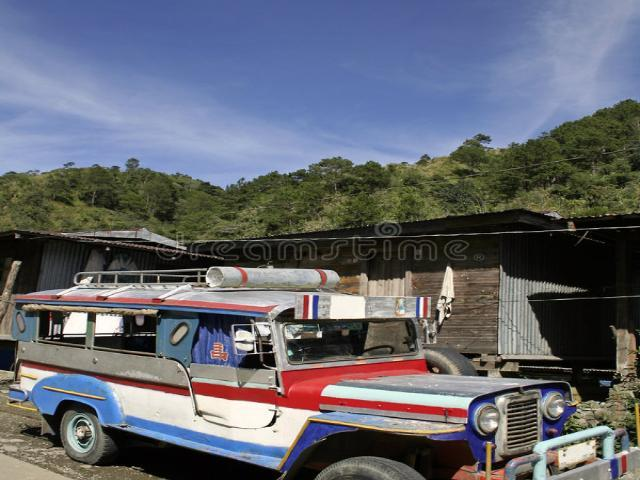jeepney: (7, 262, 639, 480)
